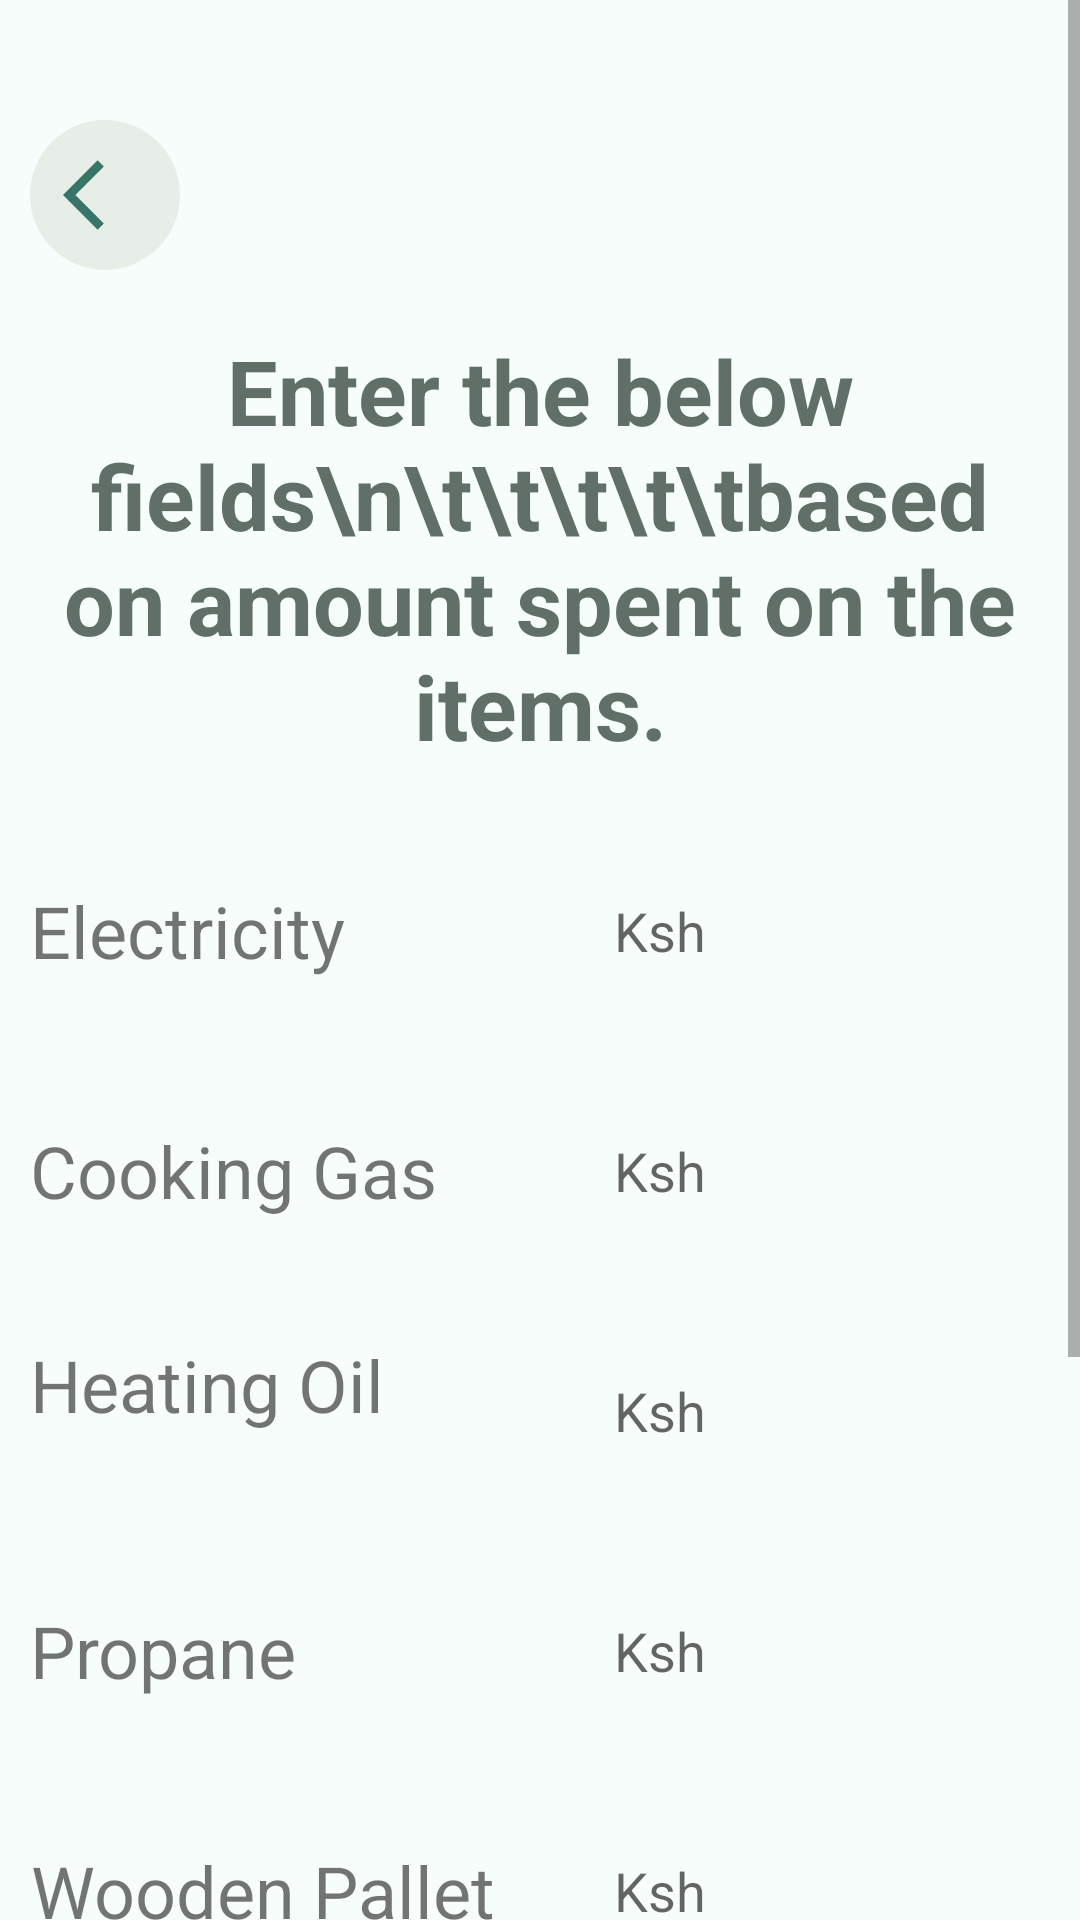

Locate icon controls on the screen. Image size 1080 x 1920, boxes as [left=x1, top=y1, right=x2, bottom=y2].
arrow back: [left=30, top=120, right=180, bottom=270]
